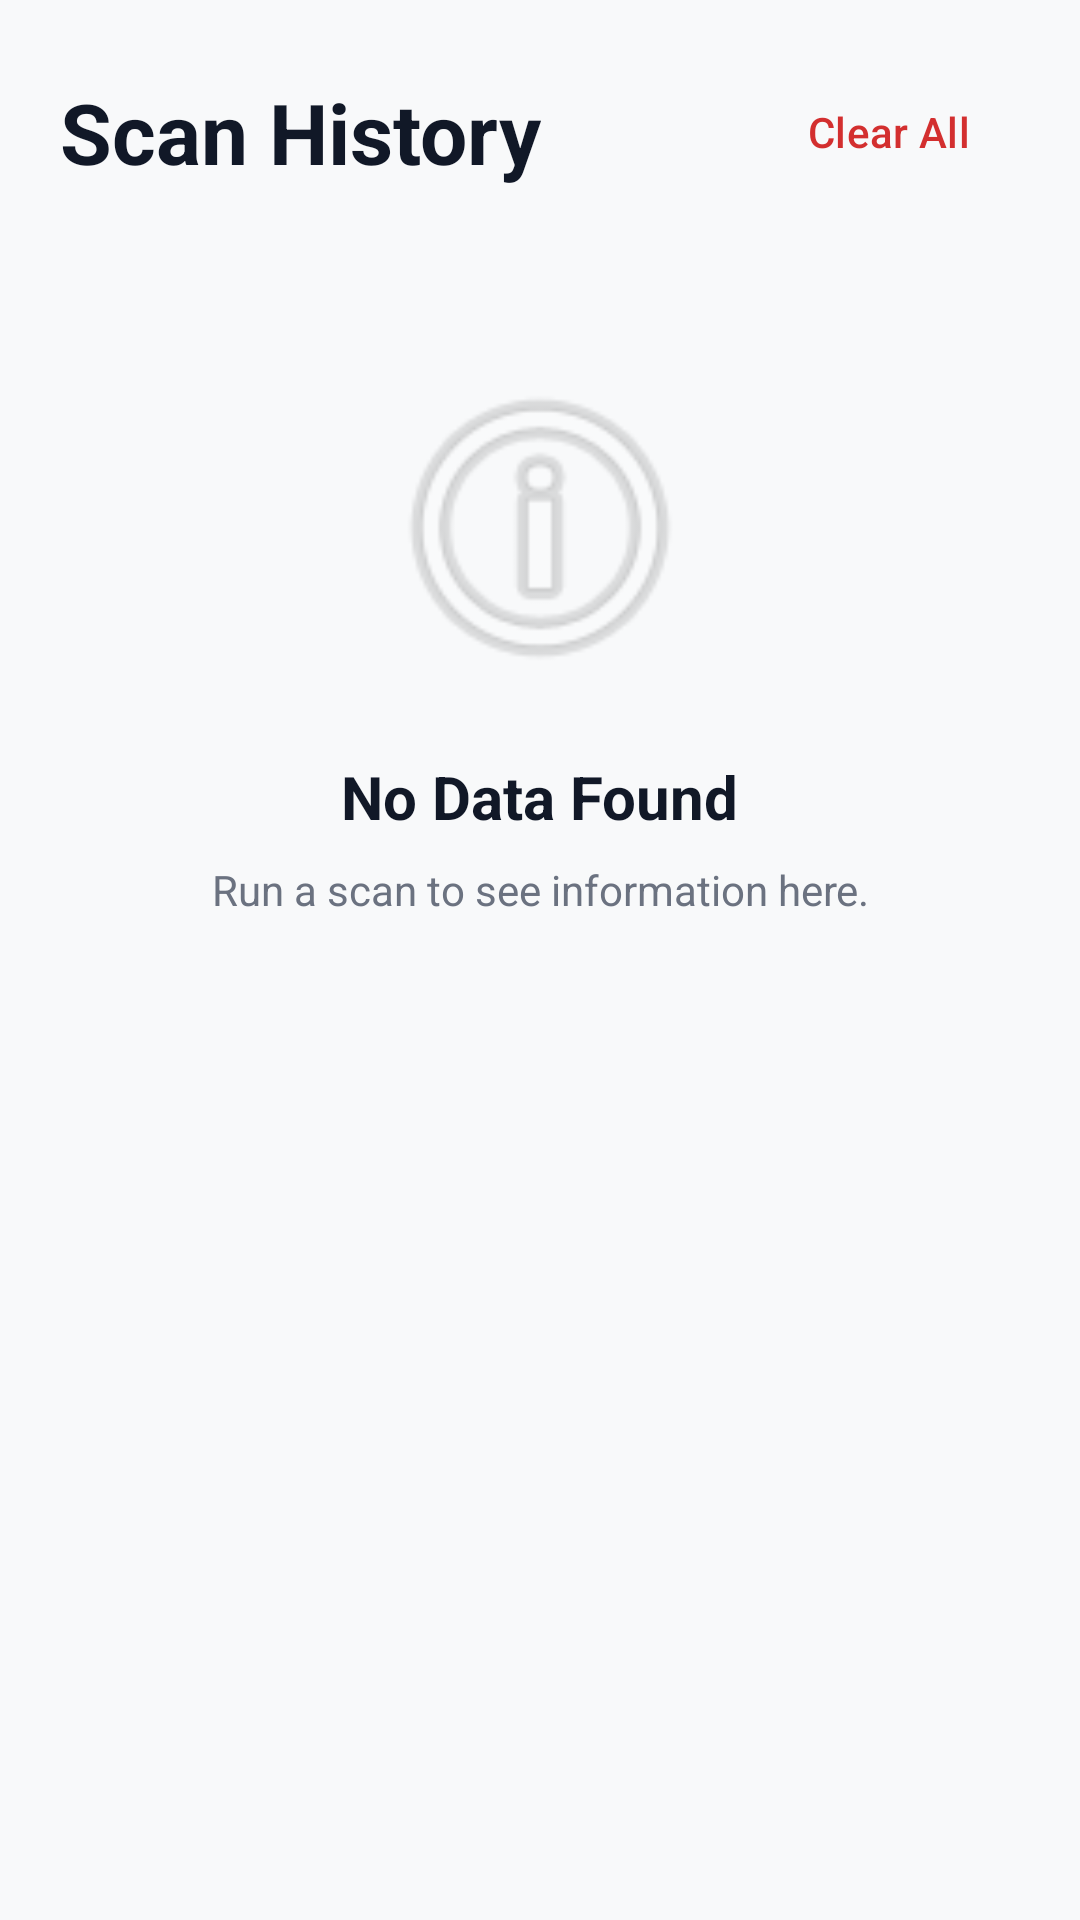

Icon click points for this 1080×1920 phone screenshot, format (x,y):
info details: (540,528)
